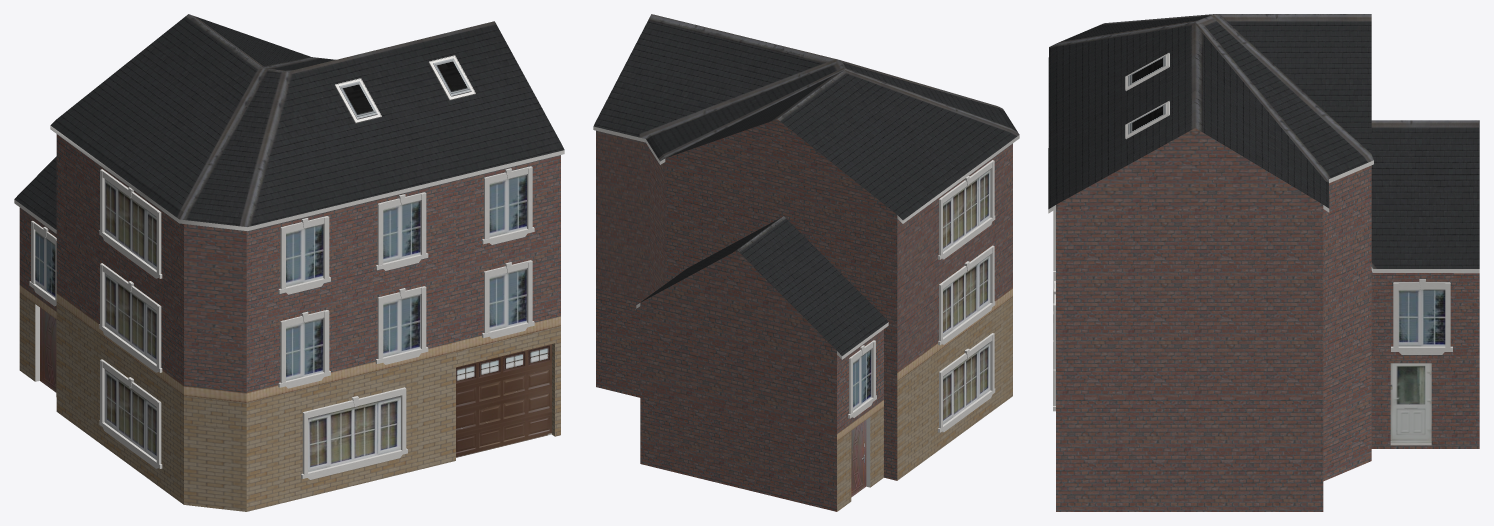
Rendered from terracedcorner3story1cm.FBX.
3 views of the same model, side by side, from view 1: azimuth 30°, elevation 25°; view 2: azimuth 150°, elevation 25°; view 3: azimuth 270°, elevation 25° (orthographic). The views are drawn at different scales.
Visible parts, largest first — view 1: Box004; view 2: Box004; view 3: Box004.
Boxes of the visible parts, x1,y1,x2,y2 form: Box004: (14,14,564,511); Box004: (593,14,1019,511); Box004: (1048,14,1479,511).
Bounding box in the file's own units: 1297 × 1258 × 1281.
